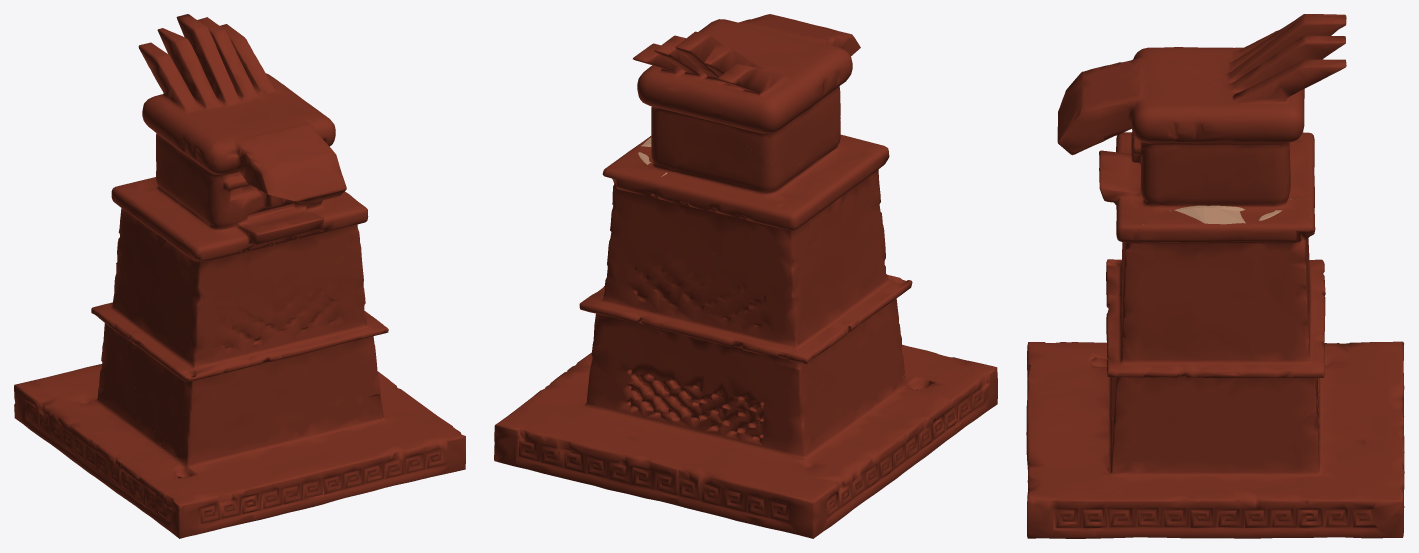
The model's file is bishop.glb.
3 views of the same model, side by side, from view 1: azimuth 30°, elevation 25°; view 2: azimuth 150°, elevation 25°; view 3: azimuth 270°, elevation 25° (orthographic). The views are drawn at different scales.
Parts seen in each view (by area): view 1: chunk_11, chunk_06, chunk_01, chunk_04, chunk_12, chunk_00, chunk_05, chunk_07, chunk_09, chunk_03, chunk_13, chunk_10 (+1 smaller); view 2: chunk_12, chunk_11, chunk_14, chunk_02, chunk_10, chunk_07, chunk_09, chunk_03, chunk_05, chunk_13, chunk_04, chunk_06 (+1 smaller); view 3: chunk_13, chunk_09, chunk_08, chunk_14, chunk_02, chunk_05, chunk_00, chunk_04, chunk_12, chunk_01, chunk_06, chunk_07 (+2 smaller).
Boxes of the visible parts, x1,y1,x2,y2 form: chunk_11: (91,242,267,511); chunk_06: (183,173,368,319); chunk_01: (204,290,388,438); chunk_04: (144,393,389,538); chunk_12: (14,323,162,511); chunk_00: (247,392,465,520); chunk_05: (213,104,346,202); chunk_07: (138,28,241,198); chunk_09: (176,14,354,200); chunk_03: (130,194,209,284); chunk_13: (320,229,388,331); chunk_10: (111,164,178,245); chunk_12: (676,353,957,538); chunk_11: (736,193,997,428); chunk_14: (494,346,705,505); chunk_02: (602,136,750,365); chunk_10: (656,131,821,303); chunk_07: (704,45,852,166); chunk_09: (606,31,749,180); chunk_03: (798,128,878,253); chunk_05: (698,14,860,56); chunk_13: (579,258,678,354); chunk_04: (894,347,997,432); chunk_06: (831,96,889,193); chunk_13: (1107,250,1324,431); chunk_09: (1141,15,1346,225); chunk_08: (1095,425,1310,538); chunk_14: (1294,378,1404,538); chunk_02: (1129,200,1325,342); chunk_05: (1057,48,1208,197); chunk_00: (1026,380,1115,538); chunk_04: (1027,345,1134,478); chunk_12: (1318,341,1404,421); chunk_01: (1106,274,1173,448); chunk_06: (1099,131,1164,281); chunk_07: (1147,14,1346,77).
Size of the model in its own units: 0.7628 by 0.9938 by 0.7632.
